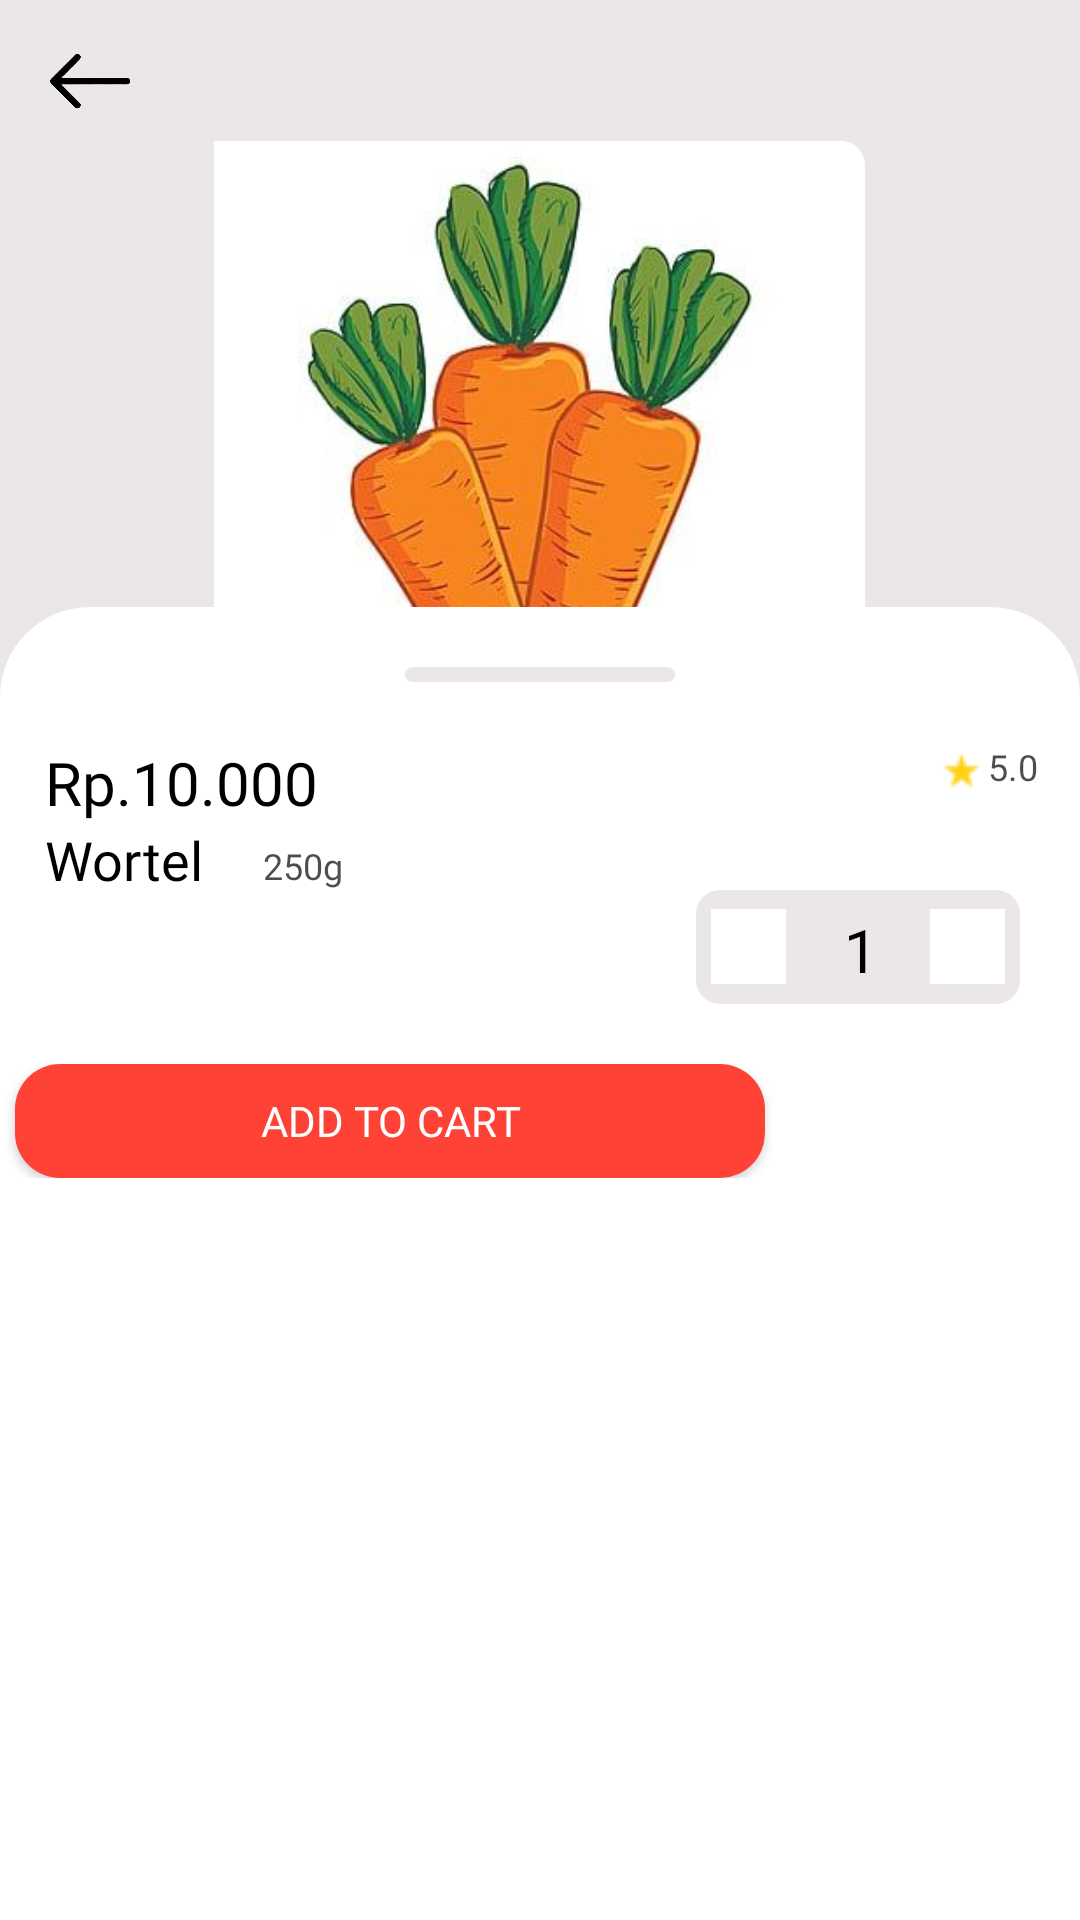

Point at icon controls on the screen. Image size 1080*1920, points as point (x, y).
bintangkecil: point (961, 770)
buttonback: point (90, 81)
